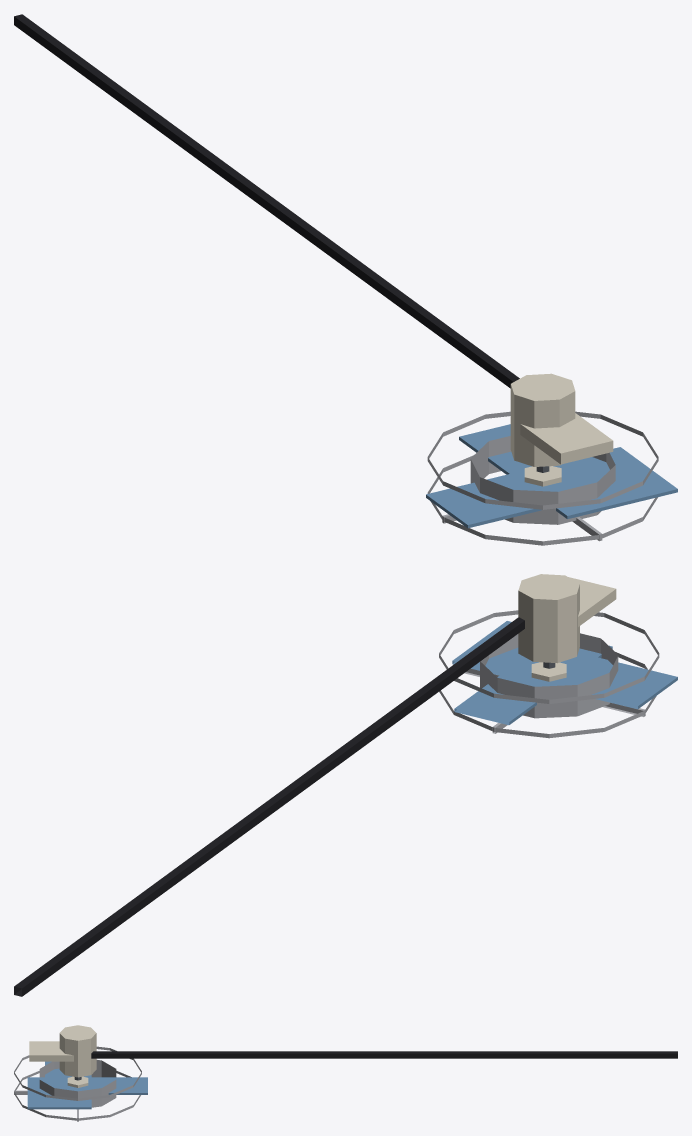
The model's file is c_wcirc.obj.
3 views of the same model, one above another, from view 1: azimuth 30°, elevation 25°; view 2: azimuth 150°, elevation 25°; view 3: azimuth 270°, elevation 25° (orthographic). The views are drawn at different scales.
Bounding box in the file's own units: 0.3897 × 0.212 × 1.97.
1 material, 1 textured.
